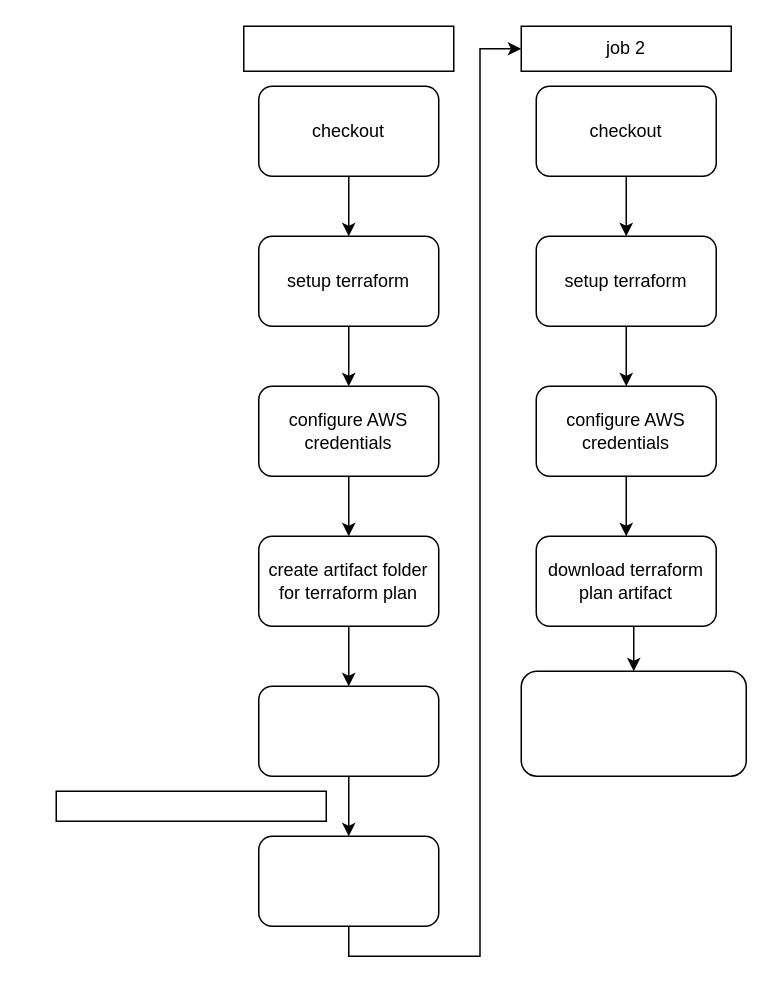
Some shapes in this 773 by 995 pixel diagram are drawn without their labels. The shapes that lost their labels are listed below. From the top down, each one's box as (x1, y1, x2, y2) in pixels, then its label:
(242, 25, 454, 71): job 1
(257, 685, 439, 776): terraform plan
(520, 670, 746, 776): terraform apply (applies infrastructure detailed in architecture.drawio)
(55, 790, 326, 821): required manual approval!
(257, 835, 439, 926): upload plan as an artifact
